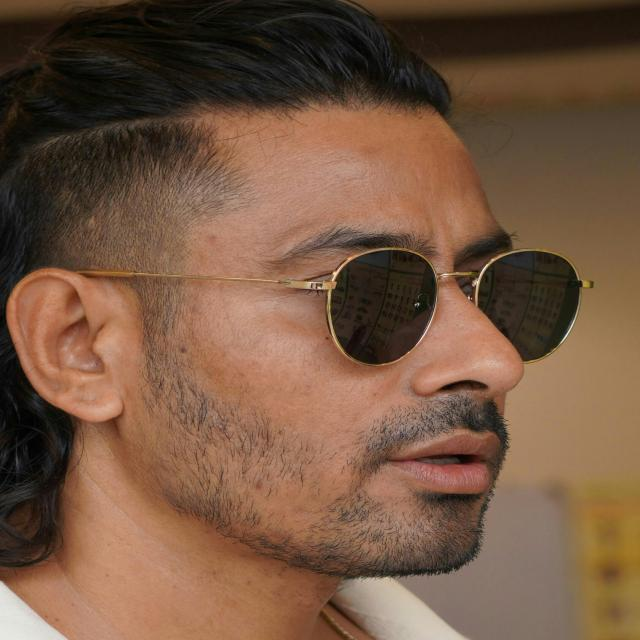left: (236, 197, 554, 549)
